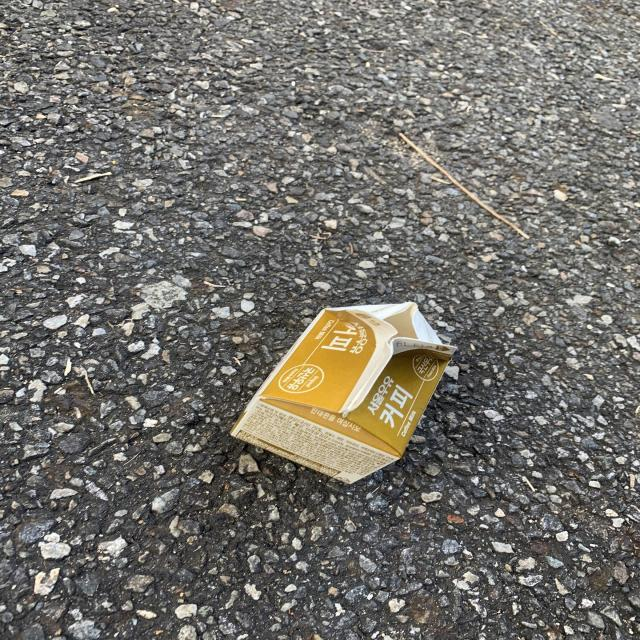paperpack: (230, 302, 456, 484)
